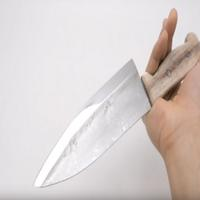knife: (29, 34, 194, 191)
